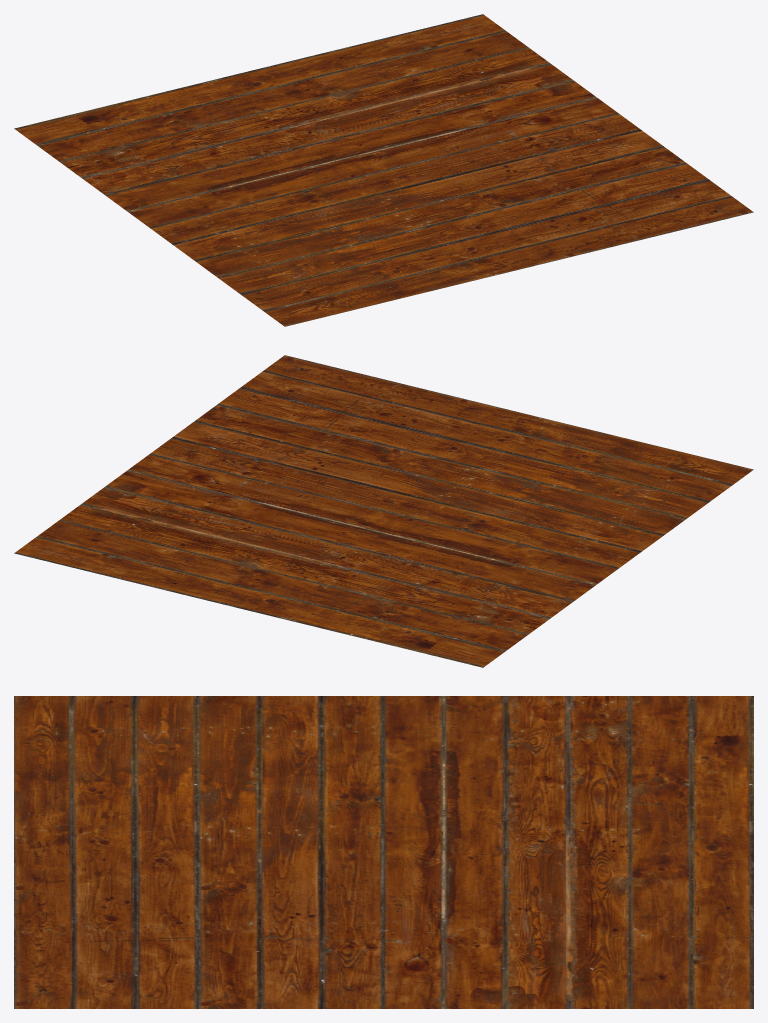
The model's file is woodfloor.glb.
3 renders of one model, top to bottom at view 1: azimuth 30°, elevation 25°; view 2: azimuth 150°, elevation 25°; view 3: azimuth 270°, elevation 25°, orthographic. The views are drawn at different scales.
Visible parts, largest first — view 1: Plane; view 2: Plane; view 3: Plane.
Part boxes in pixels (x1,y1,x2,y2): Plane: (14, 14, 753, 326); Plane: (14, 355, 753, 667); Plane: (14, 696, 753, 1008).
Size of the model in its own units: 4 by 0 by 4.
Materials: 1 (1 with a texture image).
